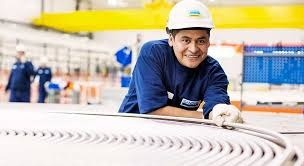helmet: (167, 1, 215, 33)
person with partial safety: (130, 1, 230, 121)
